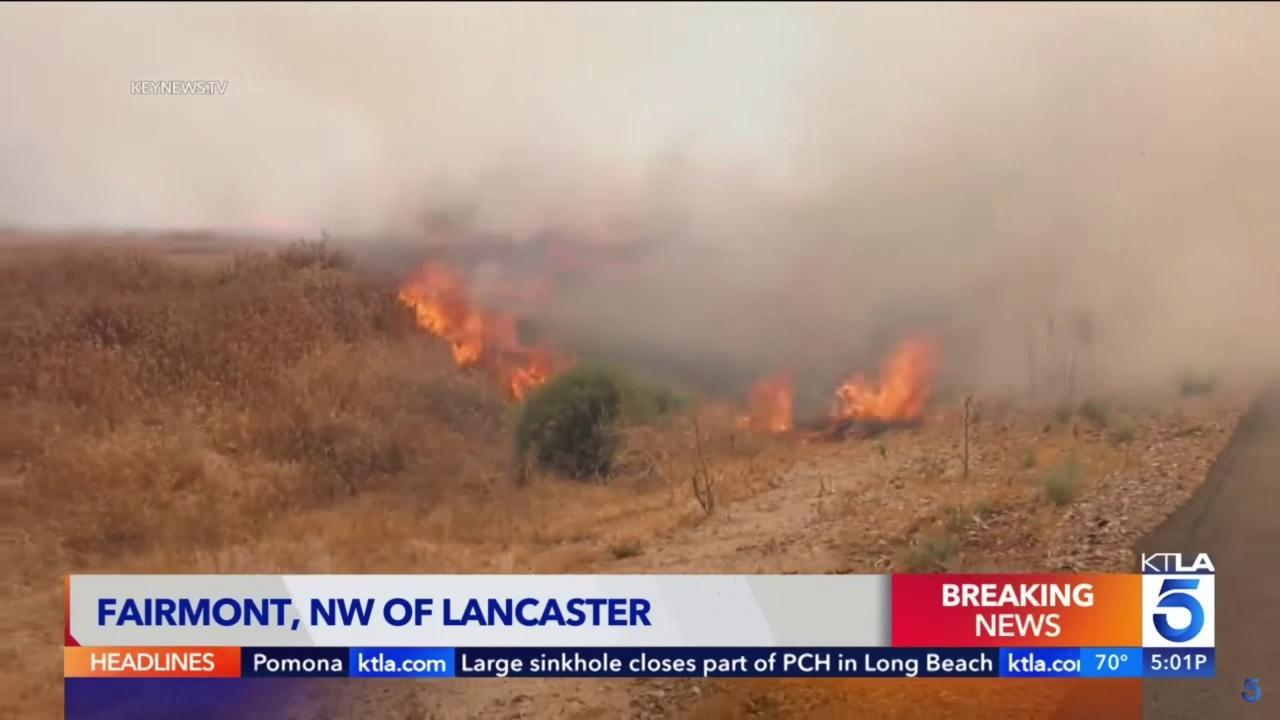fire: (389, 256, 580, 402), (822, 329, 952, 436), (730, 354, 802, 435)
smoke: (321, 2, 1280, 439)
